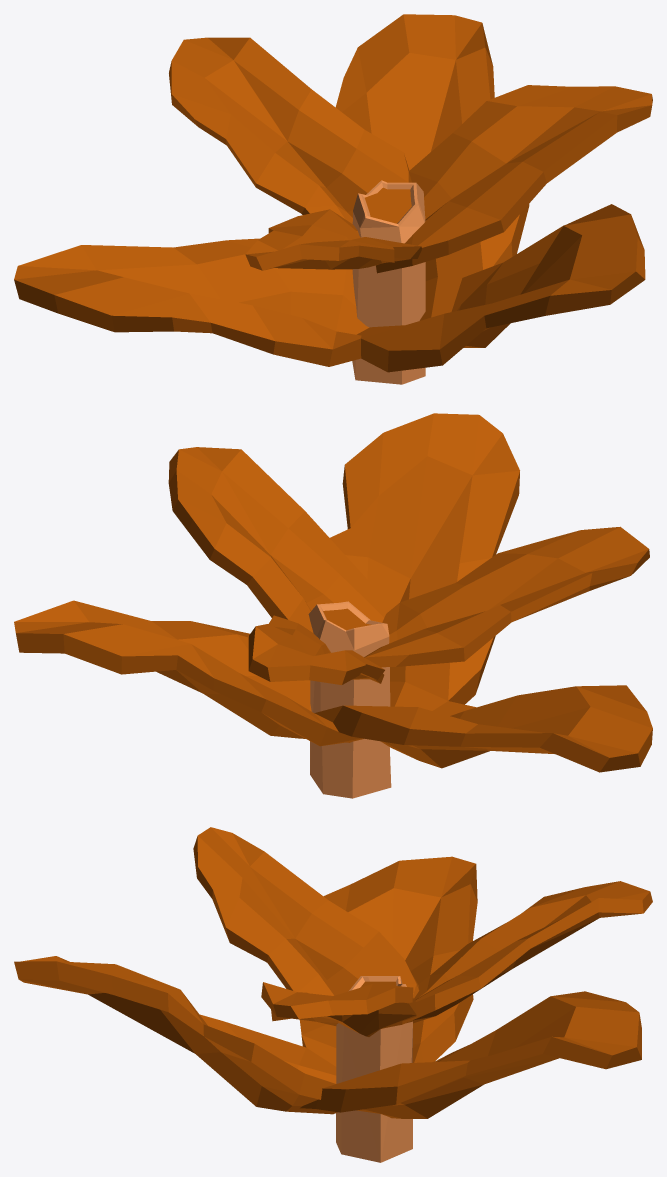
File: Broccoli_L_Collected_Dead.fbx
The picture shows the model from 3 angles, top to bottom: view 1: azimuth 30°, elevation 25°; view 2: azimuth 150°, elevation 25°; view 3: azimuth 270°, elevation 25°; orthographic projection. The views are drawn at different scales.
Parts seen in each view (by area): view 1: Broccoli_L_Collected_Died; view 2: Broccoli_L_Collected_Died; view 3: Broccoli_L_Collected_Died.
Boxes of the visible parts, <box> form: Broccoli_L_Collected_Died: <box>14,14,652,384</box>; Broccoli_L_Collected_Died: <box>14,413,652,798</box>; Broccoli_L_Collected_Died: <box>14,827,652,1162</box>.
Size of the model in its own units: 48.02 by 20.91 by 49.97.
